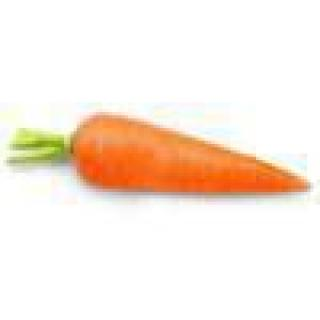Wortel: (4, 104, 308, 264)
